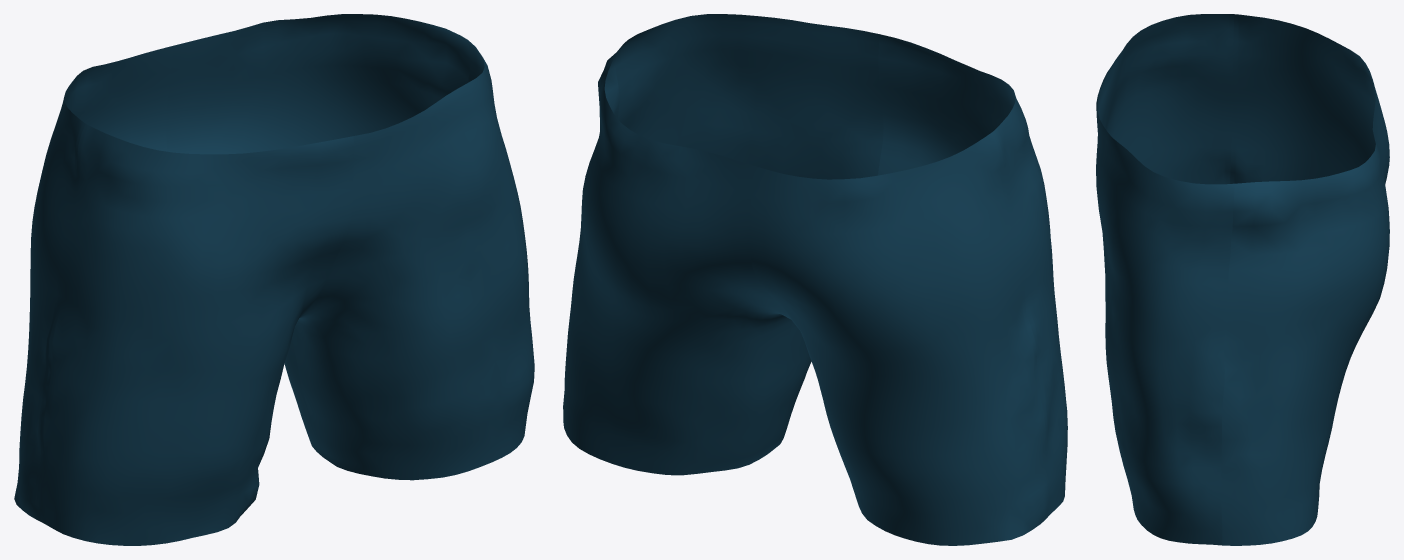
The model's file is boxers.glb.
The picture shows the model from 3 angles, left to right: view 1: azimuth 30°, elevation 25°; view 2: azimuth 150°, elevation 25°; view 3: azimuth 270°, elevation 25°; orthographic projection. The views are drawn at different scales.
Visible parts, largest first — view 1: Shorts_ShortsMat2_0; view 2: Shorts_ShortsMat2_0; view 3: Shorts_ShortsMat2_0.
Boxes of the visible parts, x1,y1,x2,y2 form: Shorts_ShortsMat2_0: (14,14,534,545); Shorts_ShortsMat2_0: (563,14,1067,545); Shorts_ShortsMat2_0: (1096,14,1389,545).
Size of the model in its own units: 0.7044 by 0.5528 by 0.4125.
